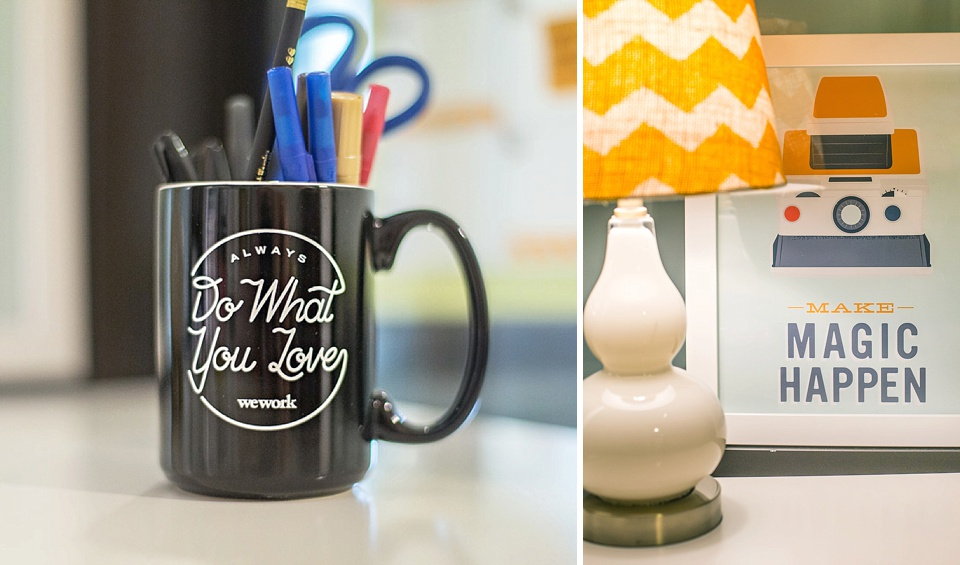wework: (233, 391, 301, 413)
